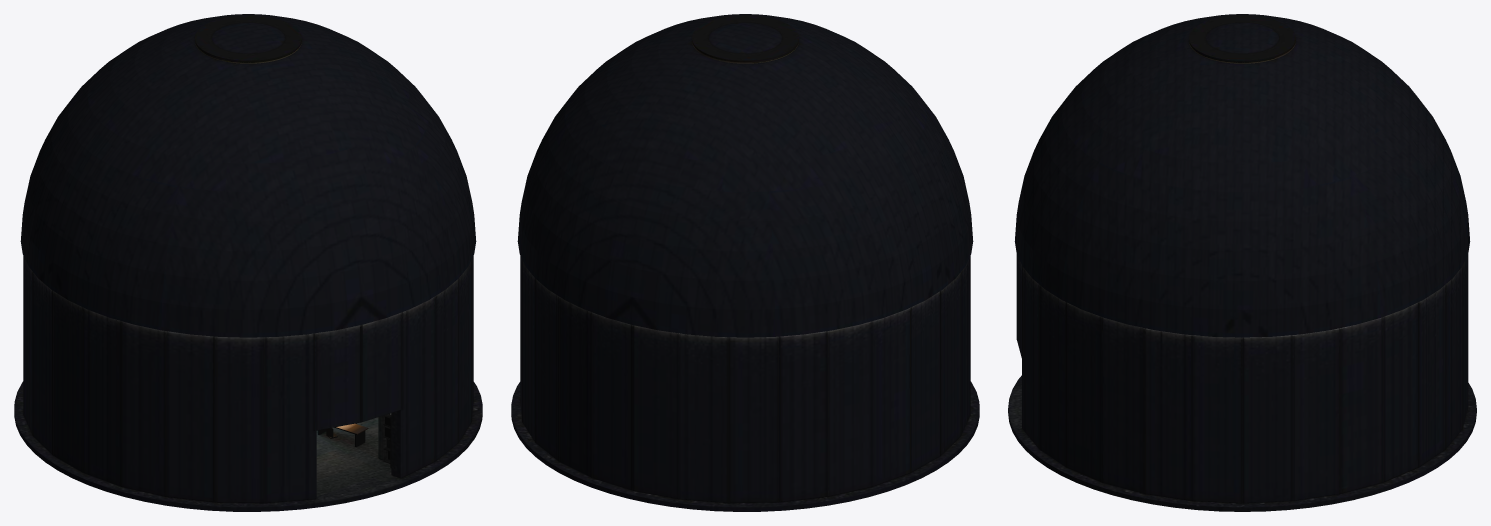
The model's file is library.glb.
3 renders of one model, left to right at view 1: azimuth 30°, elevation 25°; view 2: azimuth 150°, elevation 25°; view 3: azimuth 270°, elevation 25°, orthographic.
Visible parts, largest first — view 1: Shell, Furniture; view 2: Shell; view 3: Shell.
Boxes of the visible parts, bbox=[...] form: Shell: bbox=[14, 14, 482, 511]; Furniture: bbox=[317, 415, 391, 468]; Shell: bbox=[511, 14, 979, 511]; Shell: bbox=[1008, 14, 1476, 511].
Size of the model in its own units: 28 by 24.9 by 28.
Materials: 5 (2 with a texture image).
